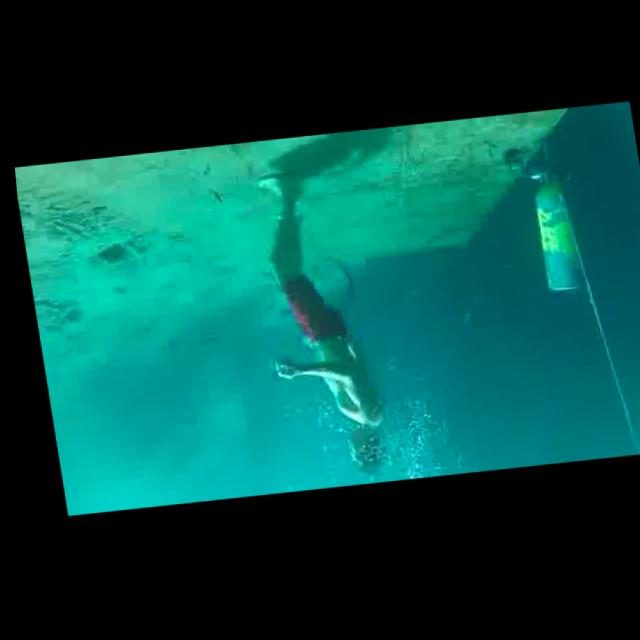human: (235, 164, 391, 490)
